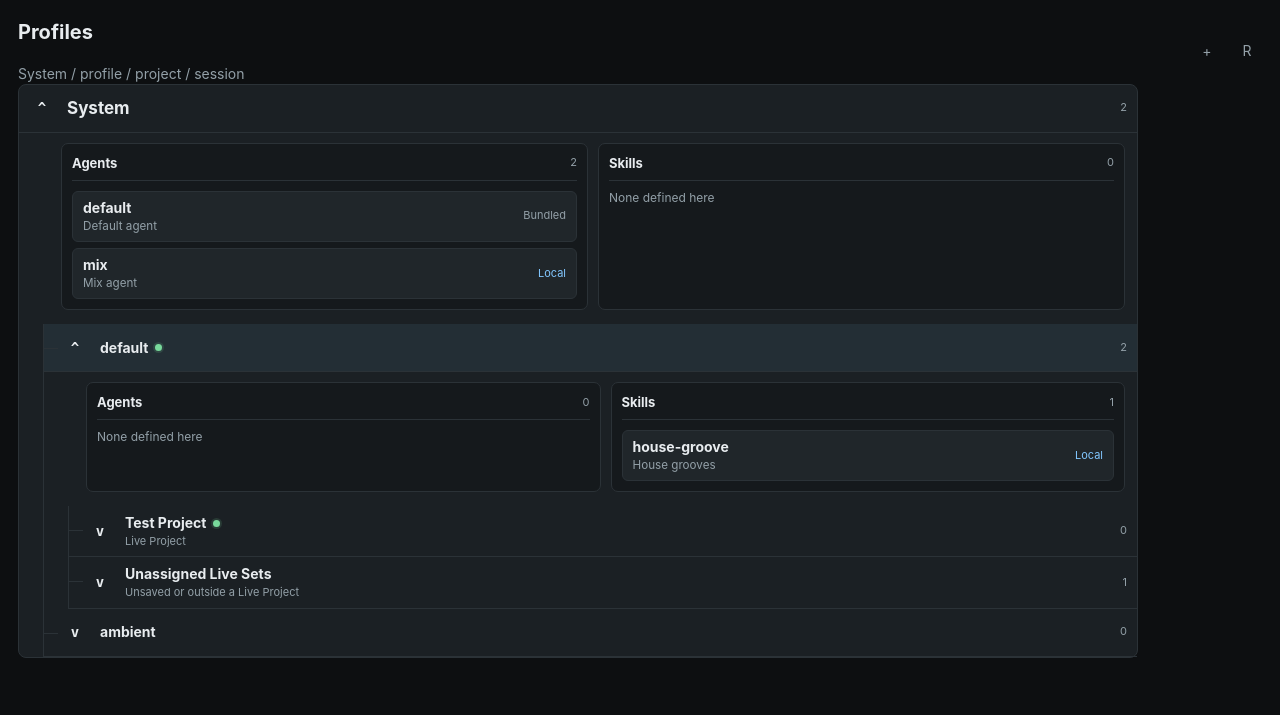
Test: ProfileManagerView › renders a compact hierarchy without persistent action panels
The image size is (1280, 715).
Click the button named "Expand Test Project Live Project" at (100, 531), box left=87, top=518, right=113, bottom=544
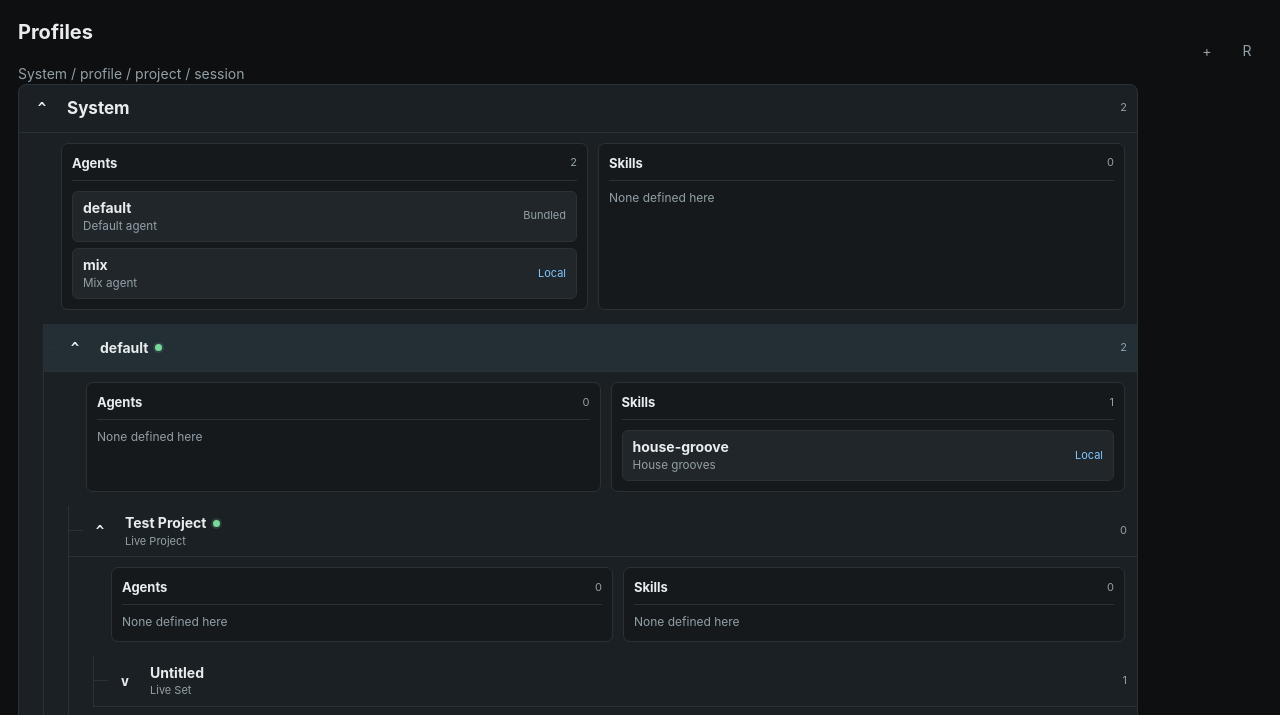
Click the button named "Expand Untitled Live Set" at (125, 681), box left=112, top=668, right=138, bottom=694
(page scrolled)
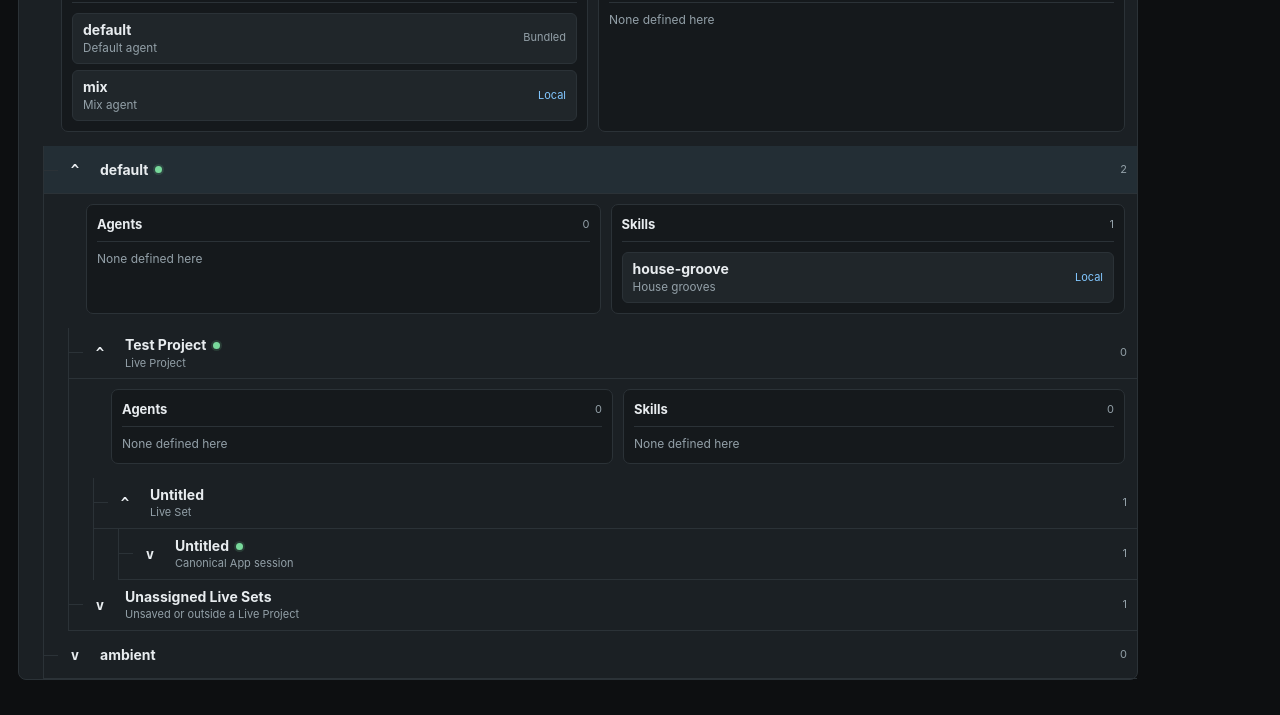
Click the button named "Expand Untitled session" at (150, 554), box left=137, top=541, right=163, bottom=567
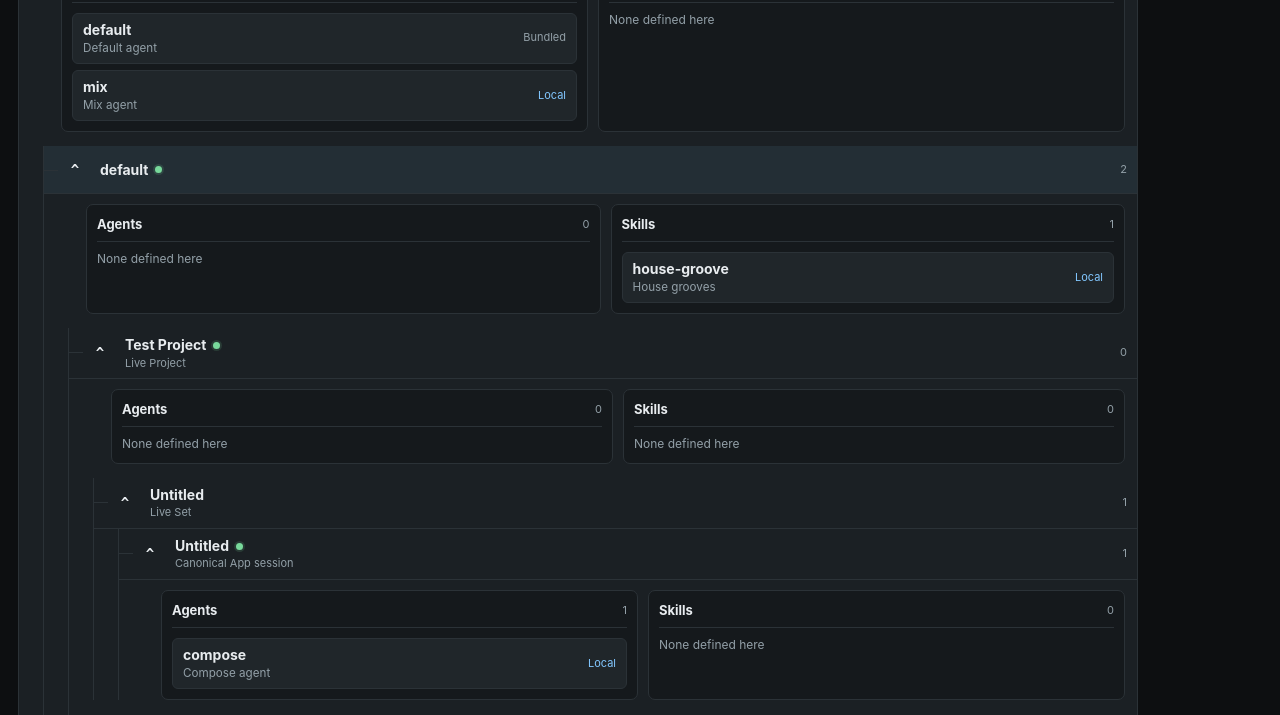
Result: the text "compose" is shown at left=183, top=646, right=246, bottom=663
